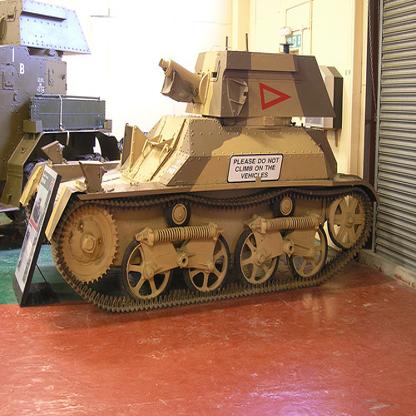Tank: (25, 40, 404, 311)
